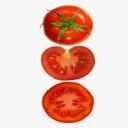tomato: (41, 84, 94, 123), (42, 47, 97, 81), (43, 8, 95, 43)
